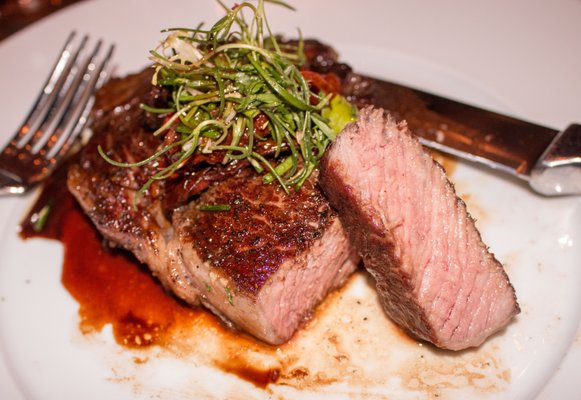burger: (0, 28, 118, 196)
sandwich: (282, 35, 581, 200)
